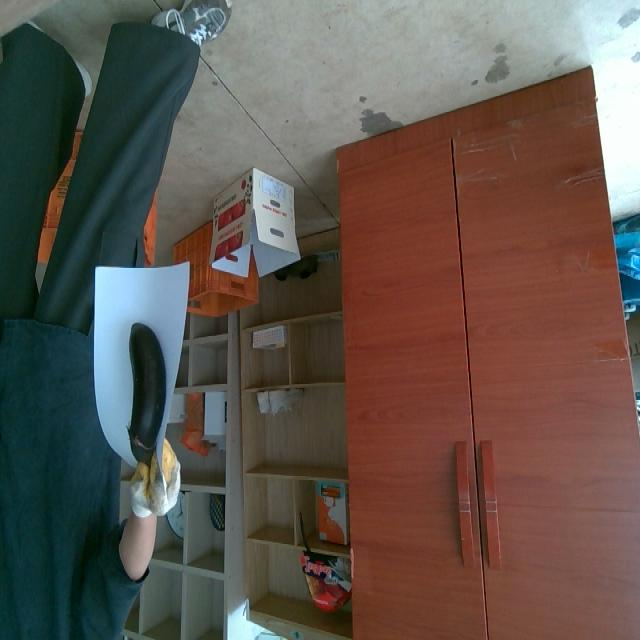Egg plant: (130, 324, 166, 464)
